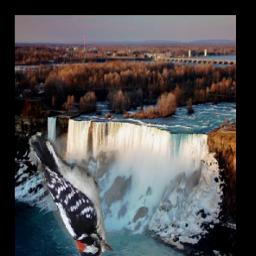Woodpecker: (29, 136, 112, 256)
